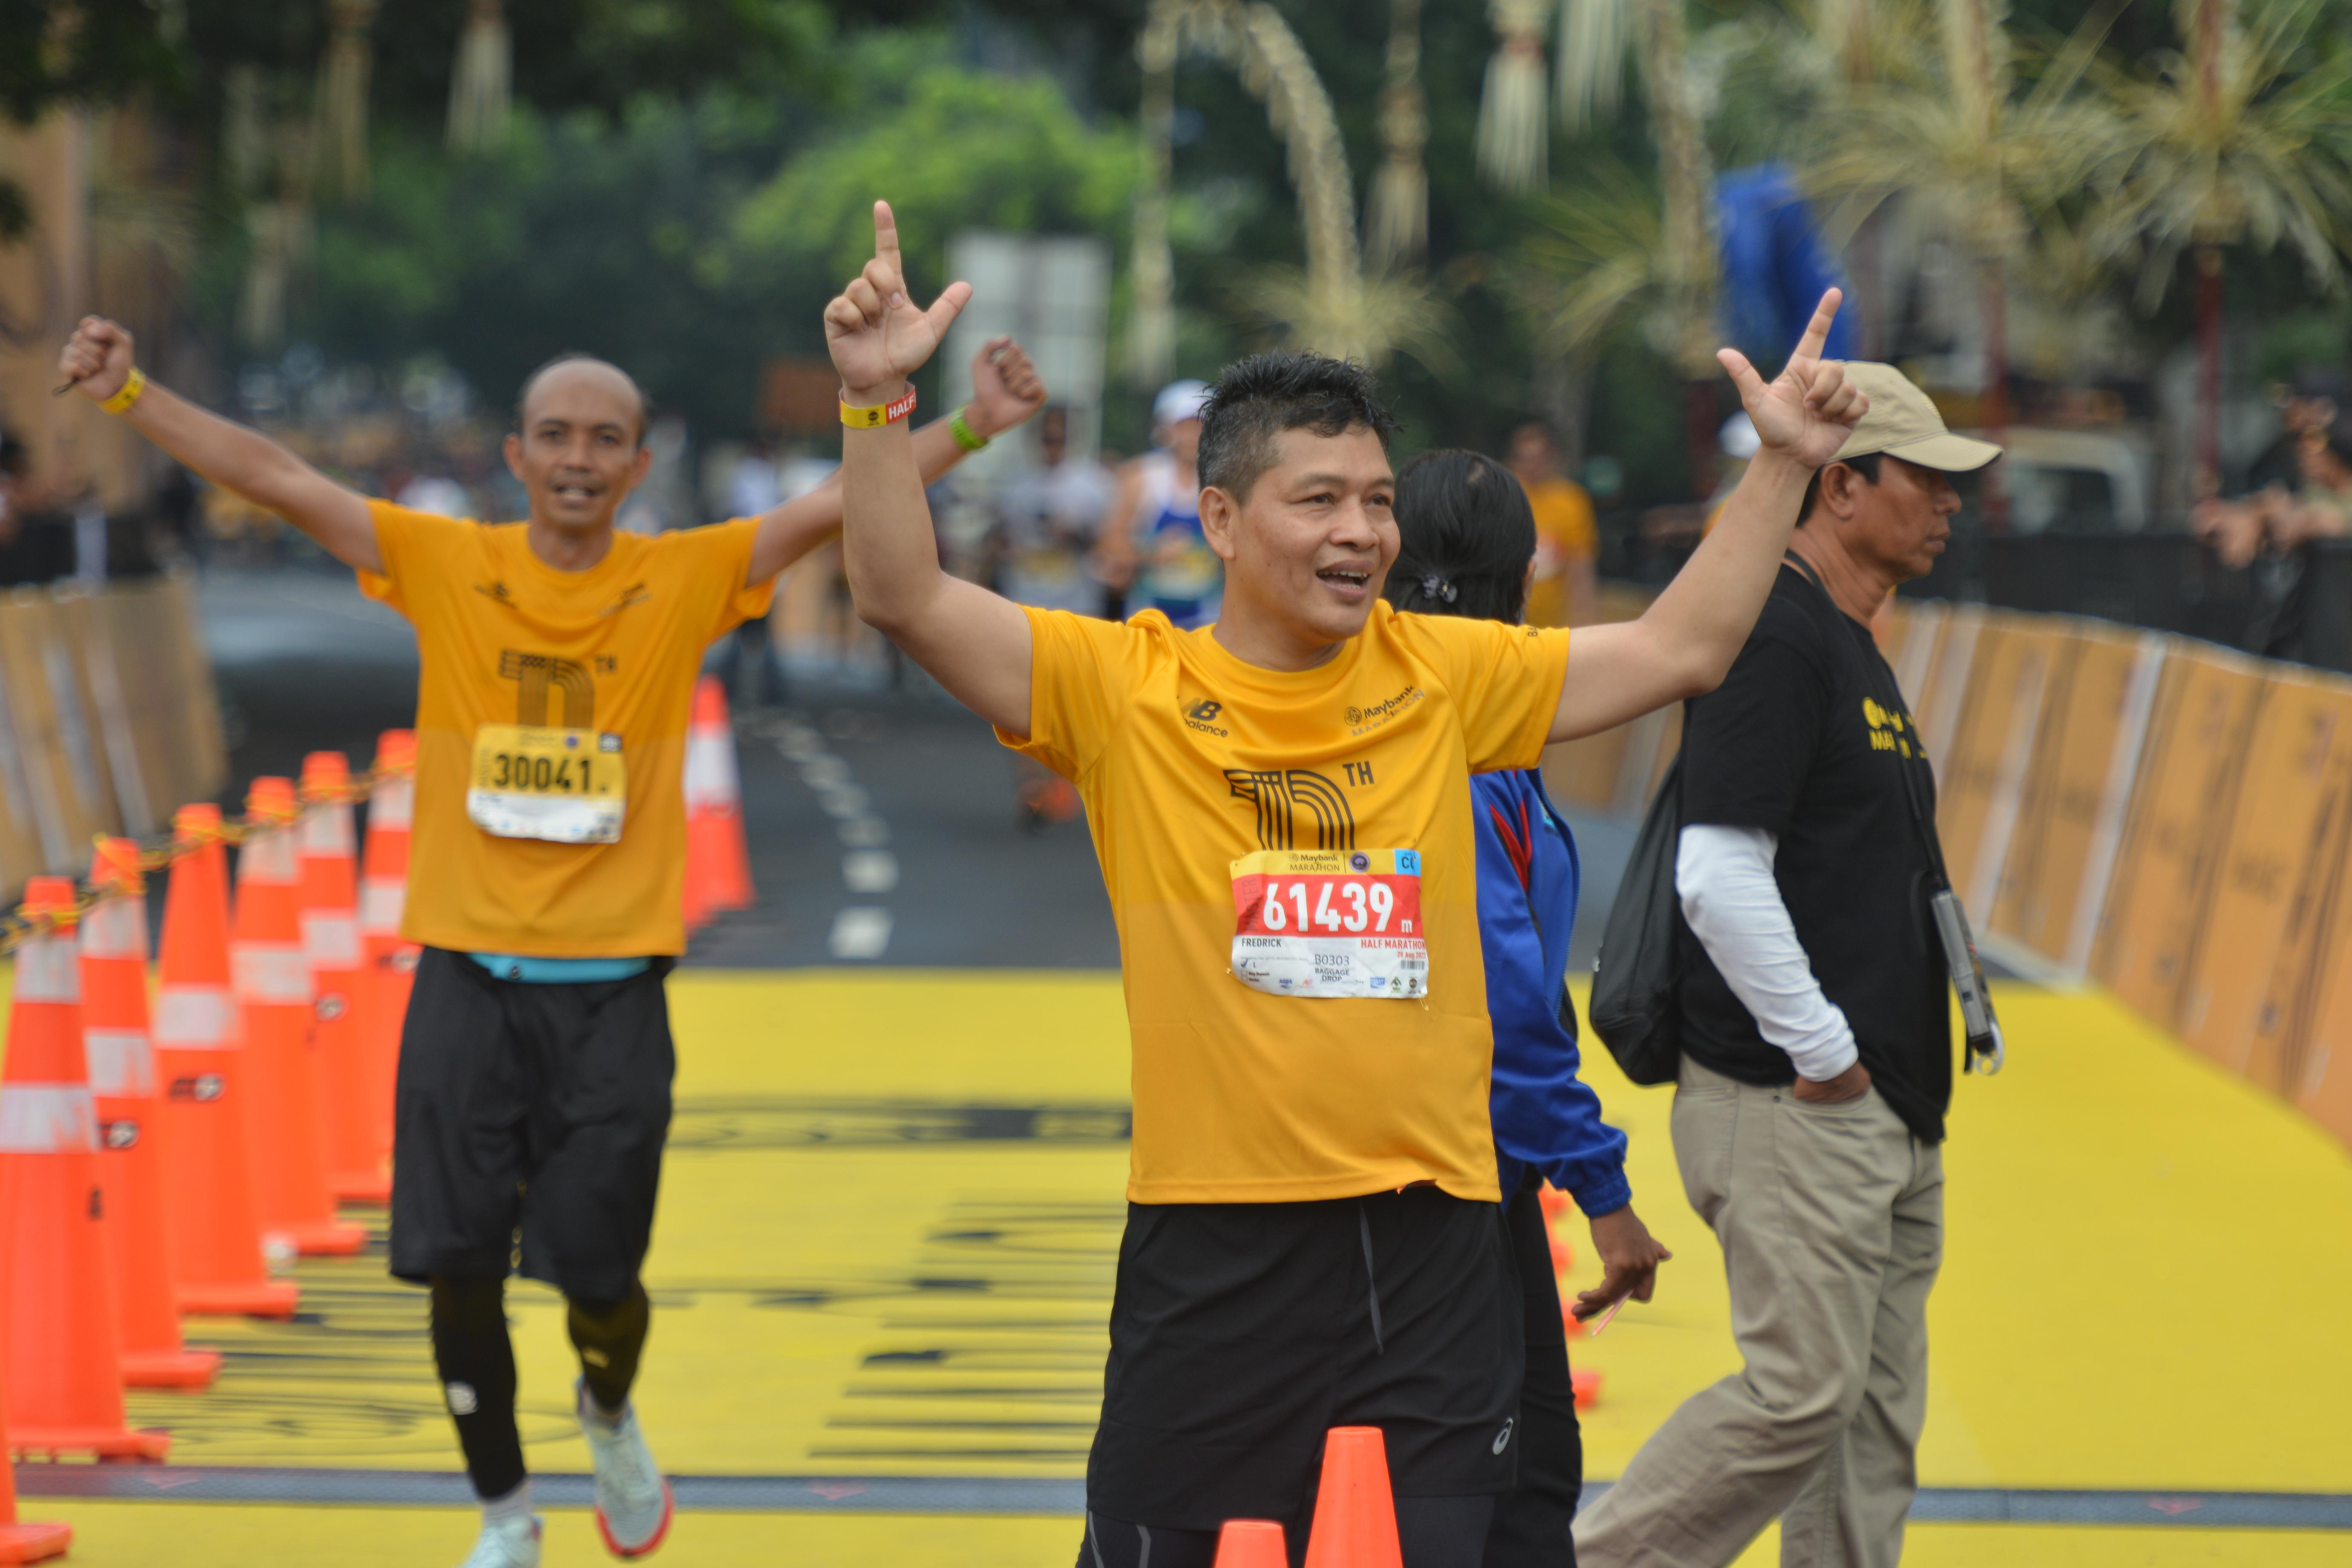bib: (1227, 845, 1426, 1010), (465, 721, 623, 854)
